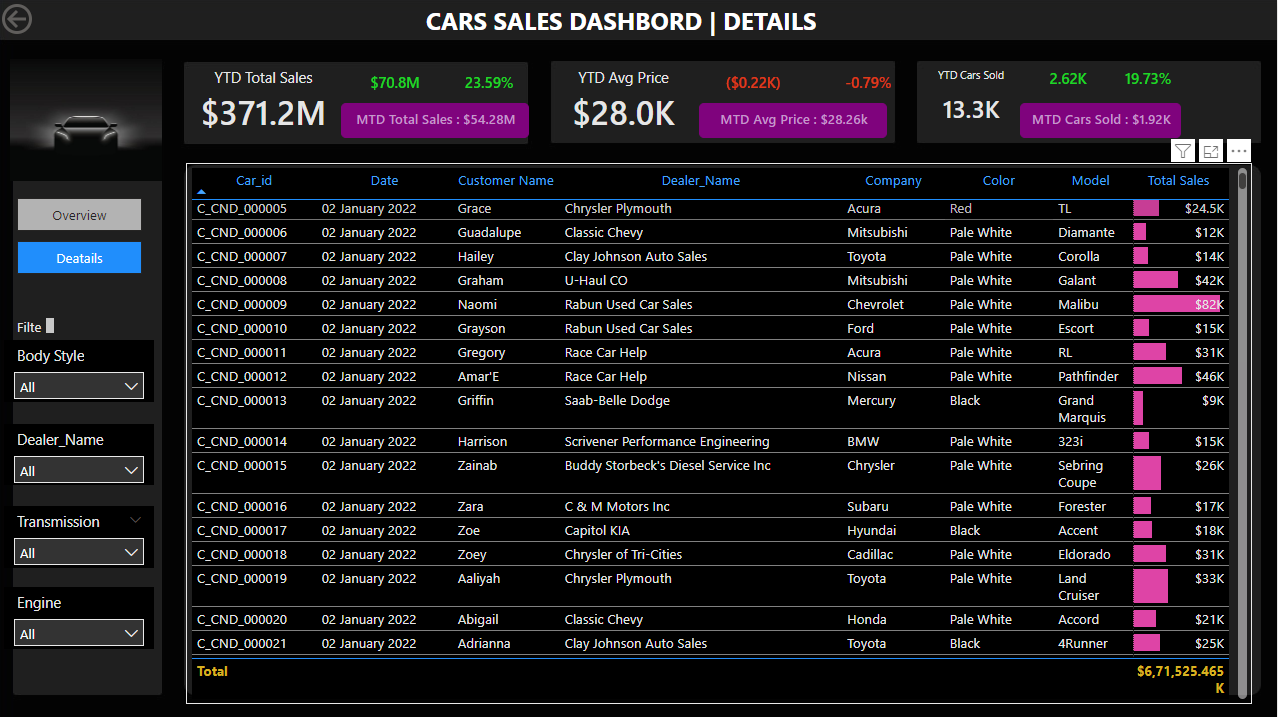

Layout of this report page (visuals, bound fields, positions):
{"tool":"powerbi","page":{"name":"Deatails","canvas":[1280,720],"ordinal":1},"visuals":[{"type":"card","title":"YTD Total Sales","fields":{"Values":["car_data.YTD Total Sales"]},"box":[189.1,68.2,154.5,70.9],"z":0},{"type":"card","fields":{"Values":["car_data.Sales Difference"]},"box":[343.6,68.2,108.2,35.5],"z":1000},{"type":"card","fields":{"Values":["car_data.YoY Sales Growth"]},"box":[451.8,68.2,80,35.5],"z":2000},{"type":"card","fields":{"Values":["car_data.MTD KPI"]},"box":[343.6,103.6,188.2,35.5],"z":3000},{"type":"card","title":"YTD Avg Price","fields":{"Values":["car_data.YTD Avg Price"]},"box":[562.7,68.2,127.3,70.9],"z":4000},{"type":"card","fields":{"Values":["car_data.Avg Price Diff"]},"box":[701.8,68.2,108.2,35.5],"z":5000},{"type":"card","fields":{"Values":["car_data.YoY Avg Price Grow"]},"box":[817.3,68.2,108.2,35.5],"z":6000},{"type":"card","fields":{"Values":["car_data.MTD Avg Price KPI"]},"box":[701.8,103.6,188.2,35.5],"z":7000},{"type":"card","title":"YTD Cars Sold","fields":{"Values":["car_data.YTD Car Sold"]},"box":[925.5,68.2,97.3,70.9],"z":8000},{"type":"card","fields":{"Values":["car_data.Cars Sold Diff"]},"box":[1038.2,68.2,65.5,28.2],"z":9000},{"type":"card","fields":{"Values":["car_data.YoY Cars Sold Growth"]},"box":[1118.2,68.2,65.5,28.2],"z":10000},{"type":"card","fields":{"Values":["car_data.MTD Cars Sold KPI"]},"box":[1022.7,103.6,160.9,35.5],"z":11000},{"type":"actionButton","box":[0,0,100,40],"z":12000},{"type":"textbox","box":[423.6,0,431.8,41.8],"z":13000},{"type":"slicer","fields":{"Values":["car_data.Body Style"]},"box":[7.3,340.9,150,61.8],"z":14000},{"type":"slicer","fields":{"Values":["car_data.Engine"]},"box":[7.3,588.2,150,61.8],"z":15000},{"type":"slicer","fields":{"Values":["car_data.Dealer_Name"]},"box":[7.3,424.5,150,61.8],"z":16000},{"type":"slicer","fields":{"Values":["car_data.Transmission"]},"box":[7.3,507.3,150,61.8],"z":17000},{"type":"textbox","box":[14.5,313.6,47.3,27.3],"z":18000},{"type":"tableEx","fields":{"Values":["car_data.Car_id","car_data.Date","car_data.Customer Name","car_data.Dealer_Name","car_data.Company","car_data.Color","car_data.Model","Sum(car_data.Price ($))"]},"box":[189.1,163.6,1065.5,540.9],"z":19000},{"type":"pageNavigator","box":[20,199.1,125.5,75.5],"z":20000},{"type":"image","box":[0,55.3,177.4,131.7],"z":20001}]}

Visuals, with their boxes on the page's 1280x720 design canvas (x1, y1, x2, y2). These are canvas units, not pixel positions in the 1278x717 screenshot, which may show the page scaled, cropped or inside an application window:
"YTD Total Sales" card: bbox(189, 68, 344, 139)
card - car_data.Sales Difference: bbox(344, 68, 452, 104)
card - car_data.YoY Sales Growth: bbox(452, 68, 532, 104)
card - car_data.MTD KPI: bbox(344, 104, 532, 139)
"YTD Avg Price" card: bbox(563, 68, 690, 139)
card - car_data.Avg Price Diff: bbox(702, 68, 810, 104)
card - car_data.YoY Avg Price Grow: bbox(817, 68, 926, 104)
card - car_data.MTD Avg Price KPI: bbox(702, 104, 890, 139)
"YTD Cars Sold" card: bbox(926, 68, 1023, 139)
card - car_data.Cars Sold Diff: bbox(1038, 68, 1104, 96)
card - car_data.YoY Cars Sold Growth: bbox(1118, 68, 1184, 96)
card - car_data.MTD Cars Sold KPI: bbox(1023, 104, 1184, 139)
actionButton: bbox(0, 0, 100, 40)
textbox: bbox(424, 0, 855, 42)
slicer - car_data.Body Style: bbox(7, 341, 157, 403)
slicer - car_data.Engine: bbox(7, 588, 157, 650)
slicer - car_data.Dealer_Name: bbox(7, 424, 157, 486)
slicer - car_data.Transmission: bbox(7, 507, 157, 569)
textbox: bbox(14, 314, 62, 341)
tableEx - car_data.Car_id x car_data.Date: bbox(189, 164, 1255, 704)
pageNavigator: bbox(20, 199, 146, 275)
image: bbox(0, 55, 177, 187)
